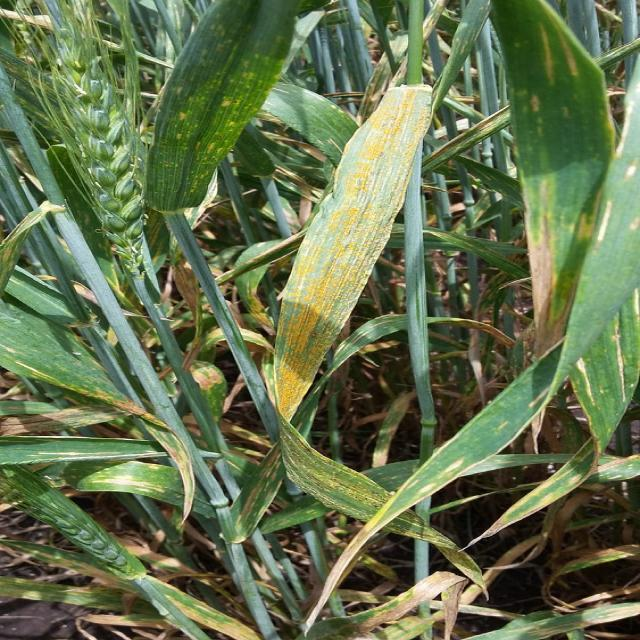Yellow Rust: (268, 84, 434, 424)
